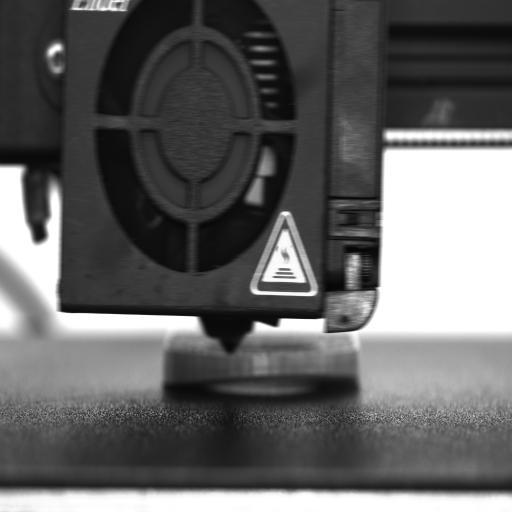warp: (166, 368, 354, 396)
